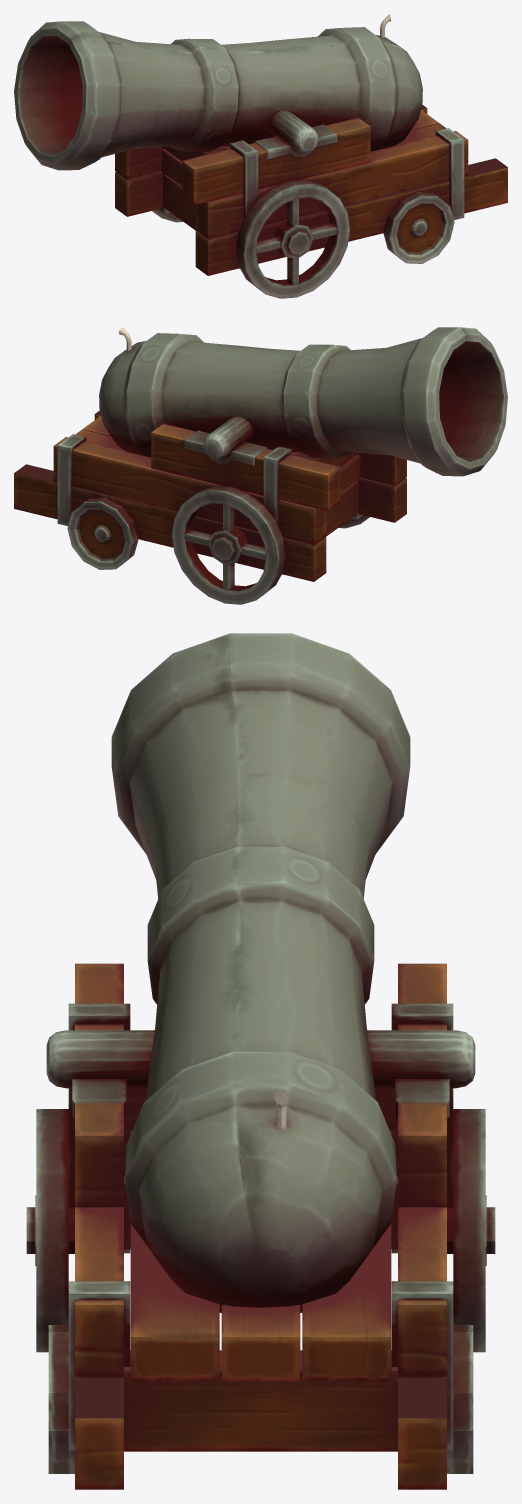
Rendered from cannon.glb.
The picture shows the model from 3 angles, top to bottom: view 1: azimuth 30°, elevation 25°; view 2: azimuth 150°, elevation 25°; view 3: azimuth 270°, elevation 25°; orthographic projection. The views are drawn at different scales.
Visible parts, largest first — view 1: pCylinder1, polySurface3, polySurface4, polySurface12, polySurface17, polySurface21, polySurface16, pCylinder2, polySurface14, polySurface19, pCube7, polySurface13 (+3 smaller); view 2: pCylinder1, polySurface3, polySurface4, polySurface12, polySurface17, polySurface21, polySurface16, pCylinder2, polySurface14, polySurface19, pCube7, polySurface13 (+3 smaller); view 3: pCylinder1, pCube9, polySurface13, polySurface12, polySurface17, polySurface3, pCylinder2, polySurface4, polySurface21, pCube1, polySurface16, polySurface14 (+2 smaller).
Part boxes in pixels (x1,y1,x2,y2): pCylinder1: (14, 21, 422, 170); polySurface3: (115, 131, 468, 238); polySurface4: (115, 105, 507, 275); polySurface12: (182, 117, 370, 204); polySurface17: (152, 179, 349, 298); polySurface21: (383, 191, 454, 263); polySurface16: (435, 128, 464, 219); pCylinder2: (268, 110, 318, 154); polySurface14: (159, 140, 258, 268); polySurface19: (273, 220, 313, 258); pCube7: (163, 174, 196, 231); polySurface13: (161, 123, 446, 185); pCylinder1: (99, 327, 507, 476); polySurface3: (53, 437, 406, 544); polySurface4: (14, 411, 406, 581); polySurface12: (151, 423, 339, 510); polySurface17: (172, 485, 369, 604); polySurface21: (67, 497, 138, 569); polySurface16: (57, 434, 86, 525); pCylinder2: (203, 416, 253, 460); polySurface14: (263, 446, 362, 574); polySurface19: (208, 526, 248, 564); pCube7: (325, 480, 358, 537); polySurface13: (75, 429, 360, 491); pCylinder1: (111, 633, 410, 1312); pCube9: (80, 1350, 441, 1451); polySurface13: (130, 1131, 391, 1381); polySurface12: (72, 963, 449, 1207); polySurface17: (36, 1109, 485, 1352); polySurface3: (75, 1207, 446, 1376); pCylinder2: (46, 1030, 475, 1088); polySurface4: (75, 1376, 446, 1489); polySurface21: (48, 1325, 473, 1473); pCube1: (221, 1304, 300, 1381); polySurface16: (68, 1281, 453, 1450); polySurface14: (68, 1003, 453, 1253).
Bounding box in the file's own units: 7.99 × 4.88 × 3.82.
1 material, 1 textured.
